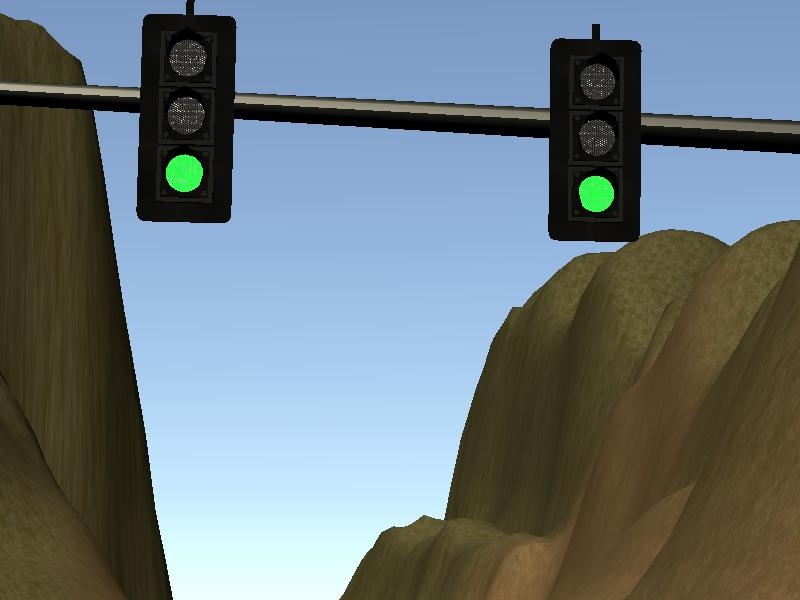green: (140, 12, 232, 220), (549, 38, 640, 241)
